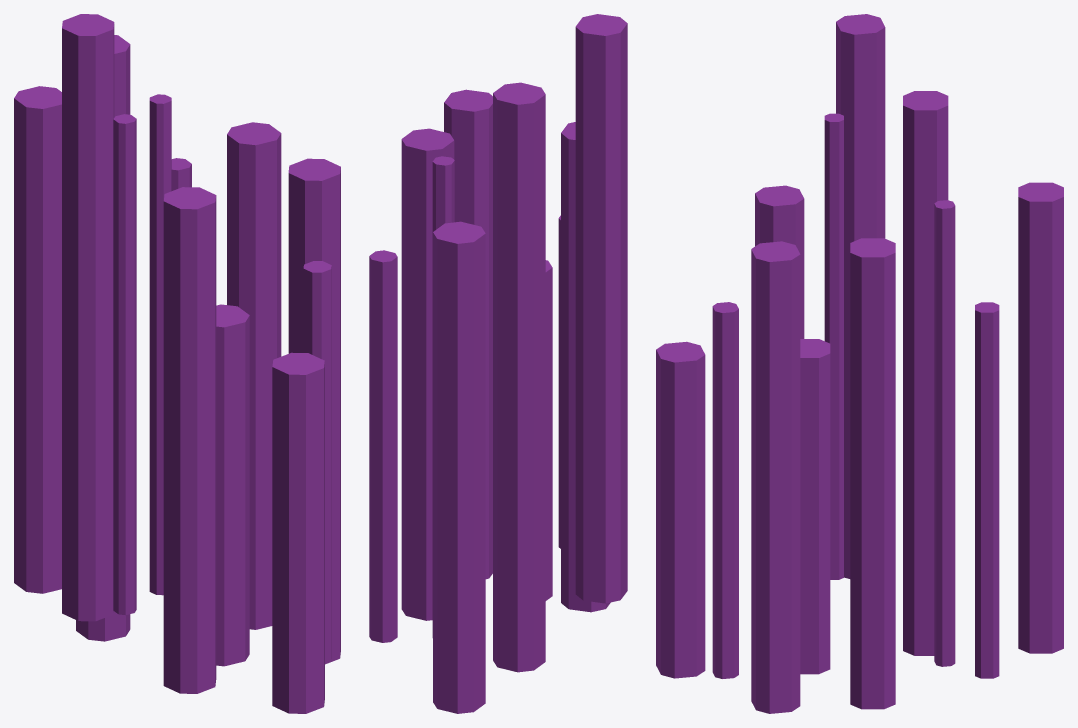
File: Grass01.fbx
3 views of the same model, side by side, from view 1: azimuth 30°, elevation 25°; view 2: azimuth 150°, elevation 25°; view 3: azimuth 270°, elevation 25° (orthographic). The views are drawn at different scales.
Visible parts, largest first — view 1: Grass10, Grass12, Grass02, Grass07, Grass04, Grass06, Grass05, Grass08, Grass09, Grass11, Grass01, Grass03; view 2: Grass10, Grass01, Grass02, Grass04, Grass03, Grass08, Grass12, Grass06, Grass09, Grass07; view 3: Grass08, Grass02, Grass04, Grass01, Grass07, Grass10, Grass06, Grass09, Grass11, Grass03, Grass05, Grass12.
Boxes of the visible parts, left/top/right/bottom form: Grass10: left=62, top=14, right=114, bottom=621; Grass12: left=163, top=187, right=216, bottom=693; Grass02: left=14, top=86, right=61, bottom=593; Grass07: left=272, top=352, right=324, bottom=713; Grass04: left=227, top=122, right=281, bottom=629; Grass06: left=216, top=304, right=249, bottom=666; Grass05: left=113, top=114, right=136, bottom=615; Grass08: left=288, top=158, right=340, bottom=664; Grass09: left=149, top=94, right=171, bottom=595; Grass11: left=303, top=261, right=331, bottom=663; Grass01: left=76, top=35, right=130, bottom=641; Grass03: left=171, top=158, right=191, bottom=190; Grass10: left=575, top=14, right=627, bottom=603; Grass01: left=493, top=82, right=545, bottom=672; Grass02: left=433, top=221, right=485, bottom=713; Grass04: left=401, top=128, right=454, bottom=620; Grass03: left=369, top=250, right=397, bottom=642; Grass08: left=444, top=89, right=492, bottom=579; Grass12: left=561, top=122, right=610, bottom=612; Grass06: left=545, top=260, right=552, bottom=600; Grass09: left=432, top=156, right=454, bottom=637; Grass07: left=558, top=215, right=560, bottom=548; Grass08: left=751, top=241, right=800, bottom=713; Grass02: left=1018, top=182, right=1063, bottom=653; Grass04: left=850, top=238, right=895, bottom=709; Grass01: left=903, top=91, right=948, bottom=655; Grass07: left=656, top=341, right=705, bottom=678; Grass10: left=836, top=14, right=885, bottom=578; Grass06: left=800, top=339, right=830, bottom=674; Grass09: left=934, top=200, right=955, bottom=666; Grass11: left=712, top=302, right=738, bottom=678; Grass03: left=975, top=302, right=999, bottom=678; Grass05: left=824, top=113, right=843, bottom=579; Grass12: left=755, top=185, right=804, bottom=338.
Bounding box in the file's own units: 0.5426 × 1.47 × 0.9064.
